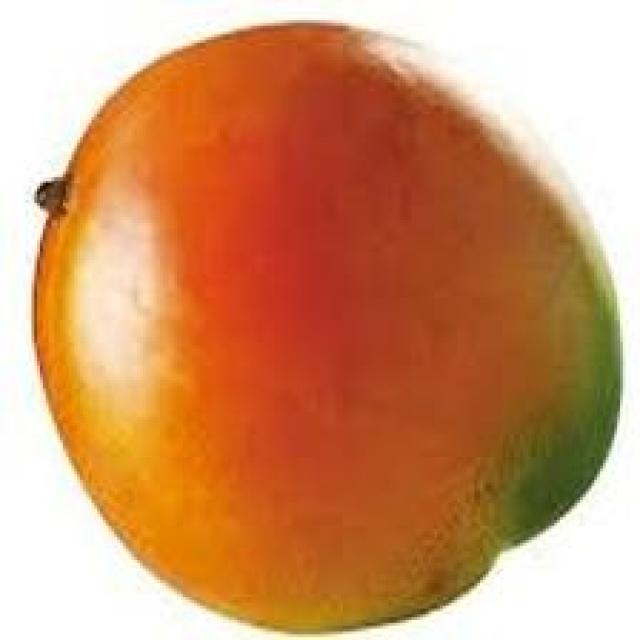Good_Mango: (29, 23, 623, 634)
